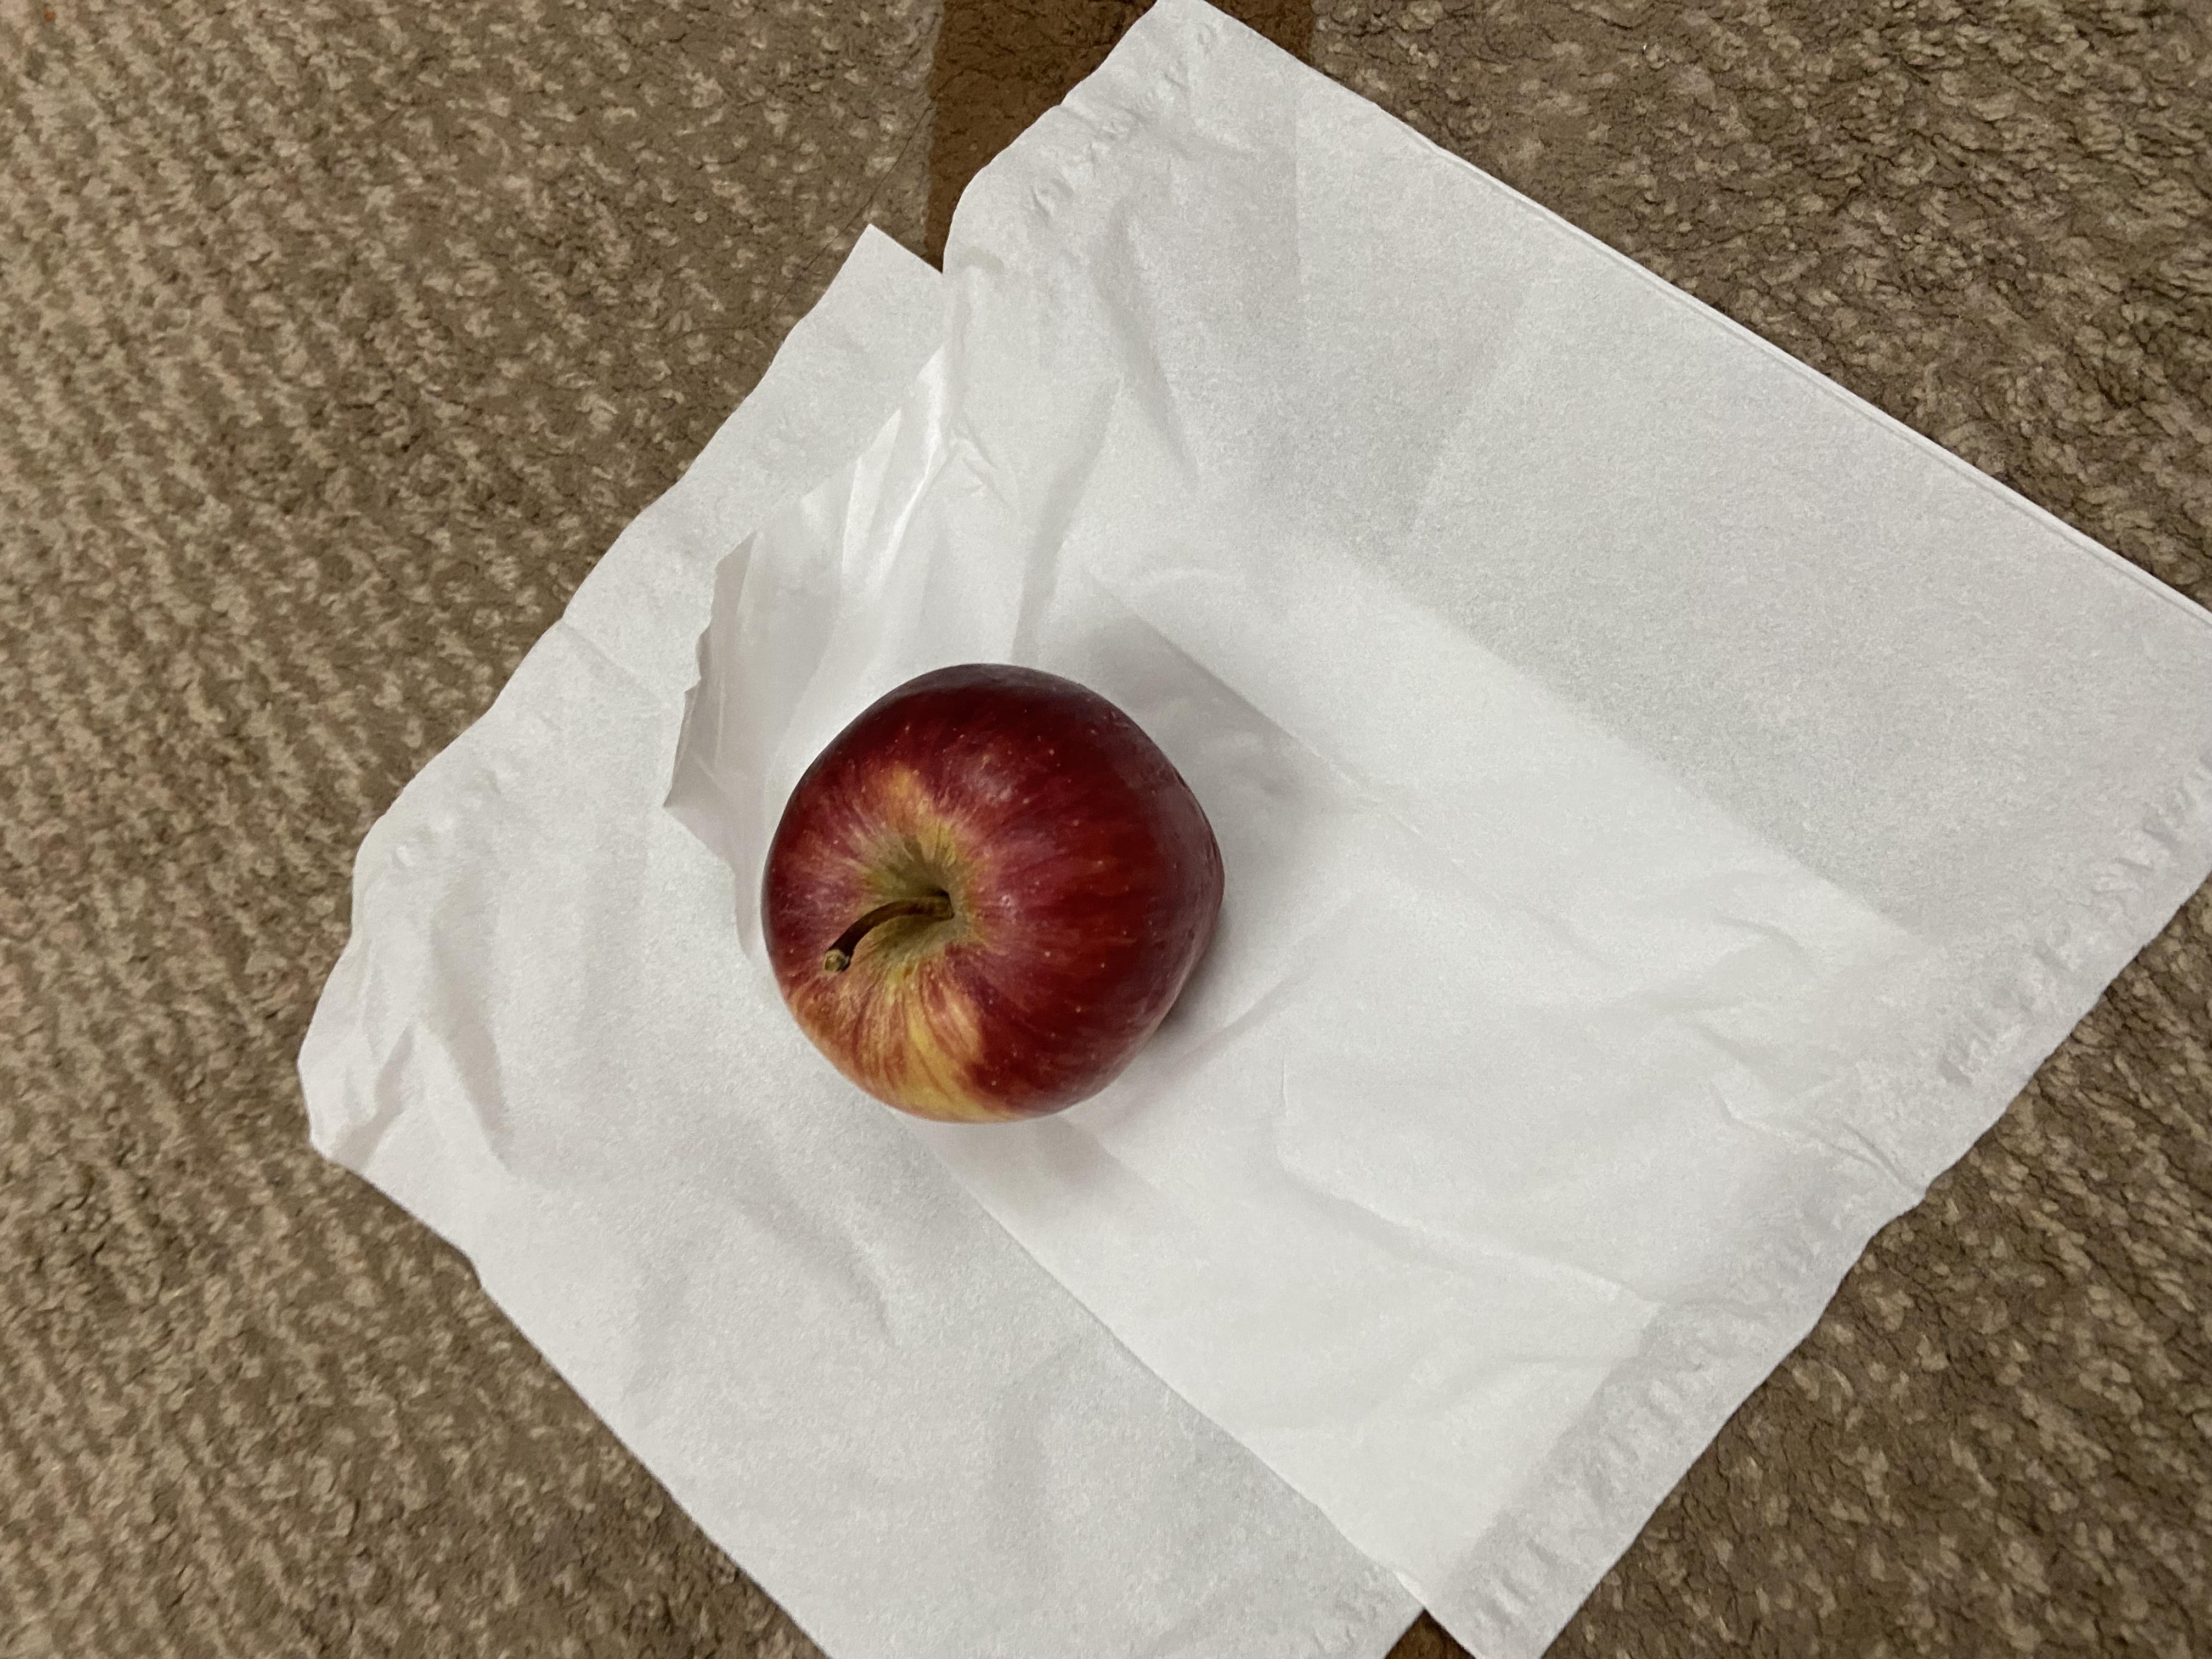Apple: (989, 521, 1465, 1004)
